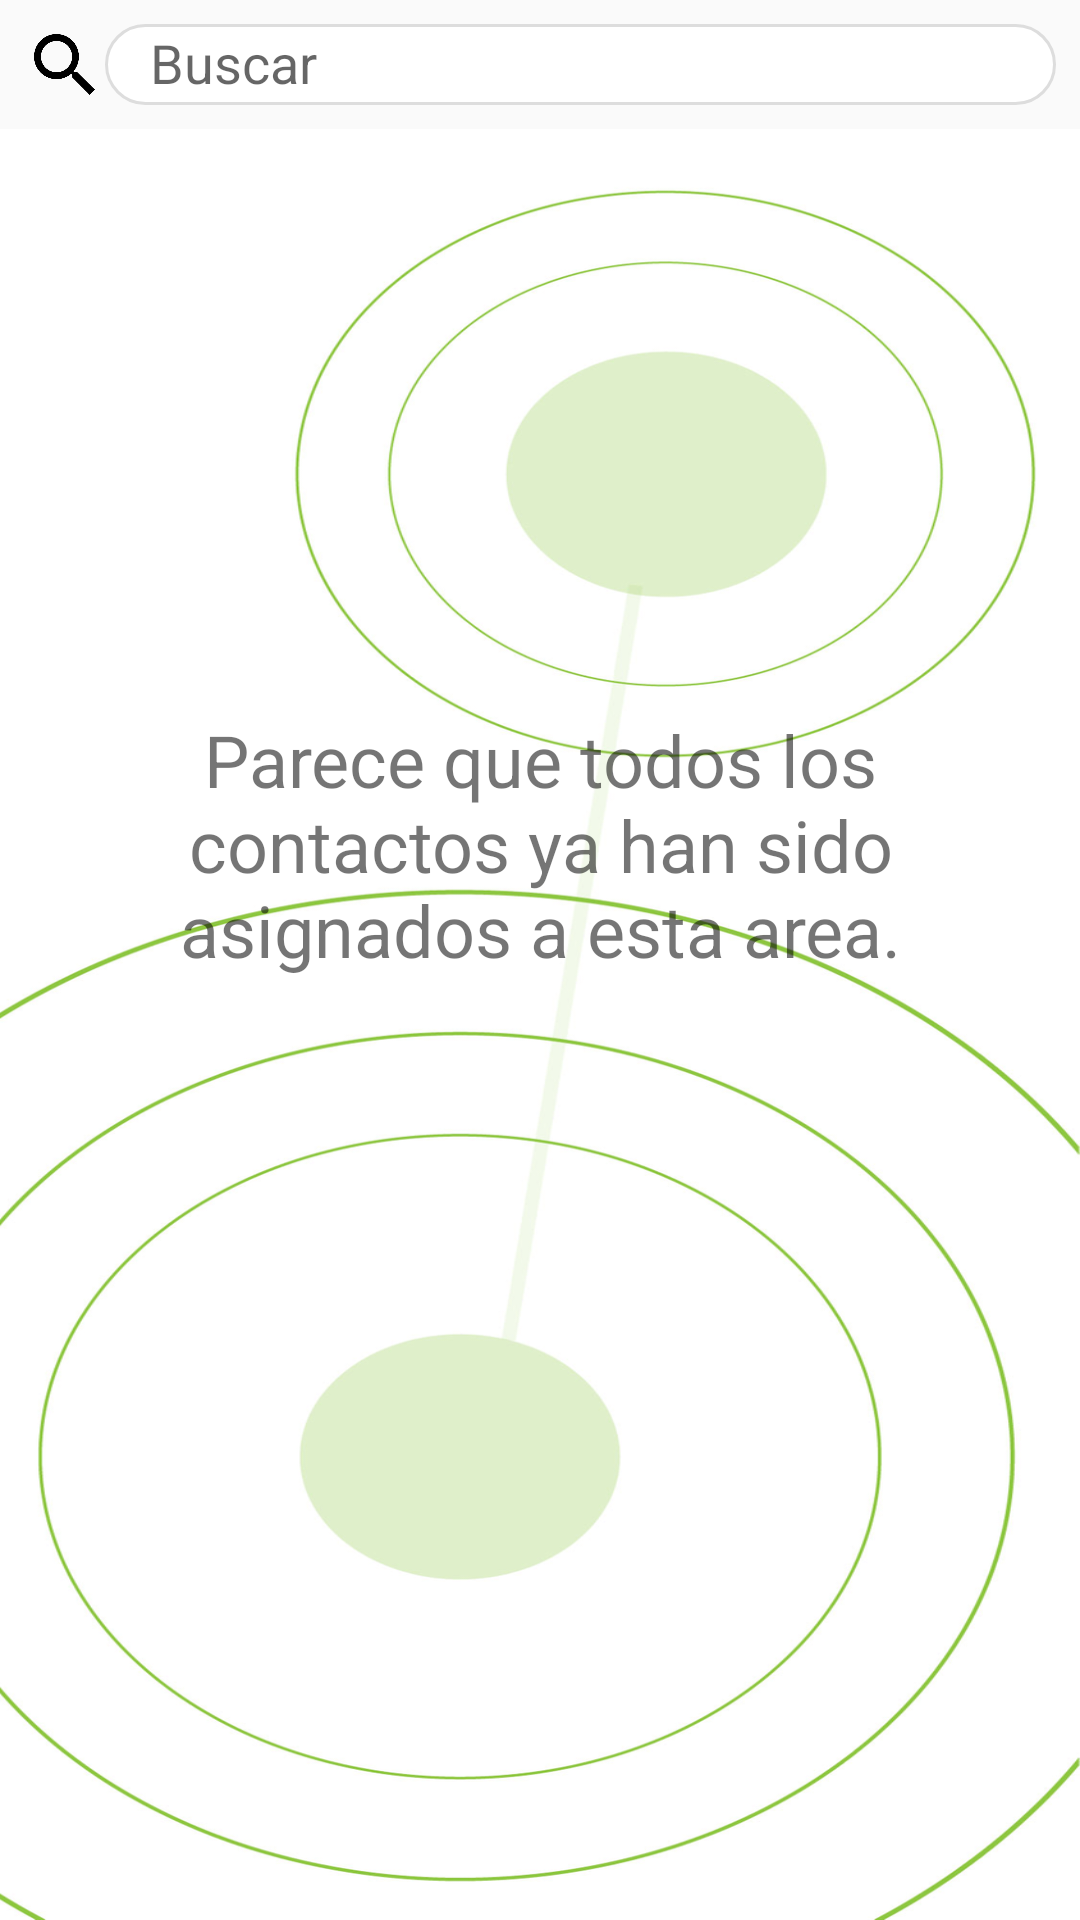

Named icons in this screenshot (1080x1920) and their centers, (x=x, y=y):
search: (x=64, y=64)
